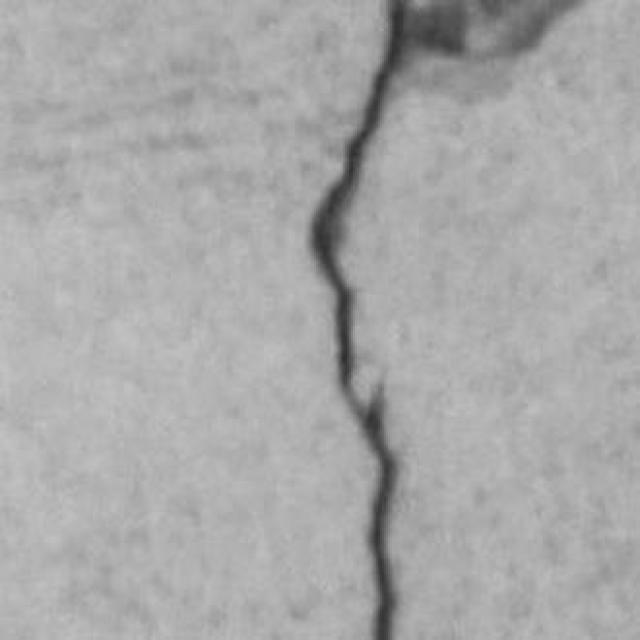crack: (311, 0, 405, 639), (403, 0, 584, 93)
